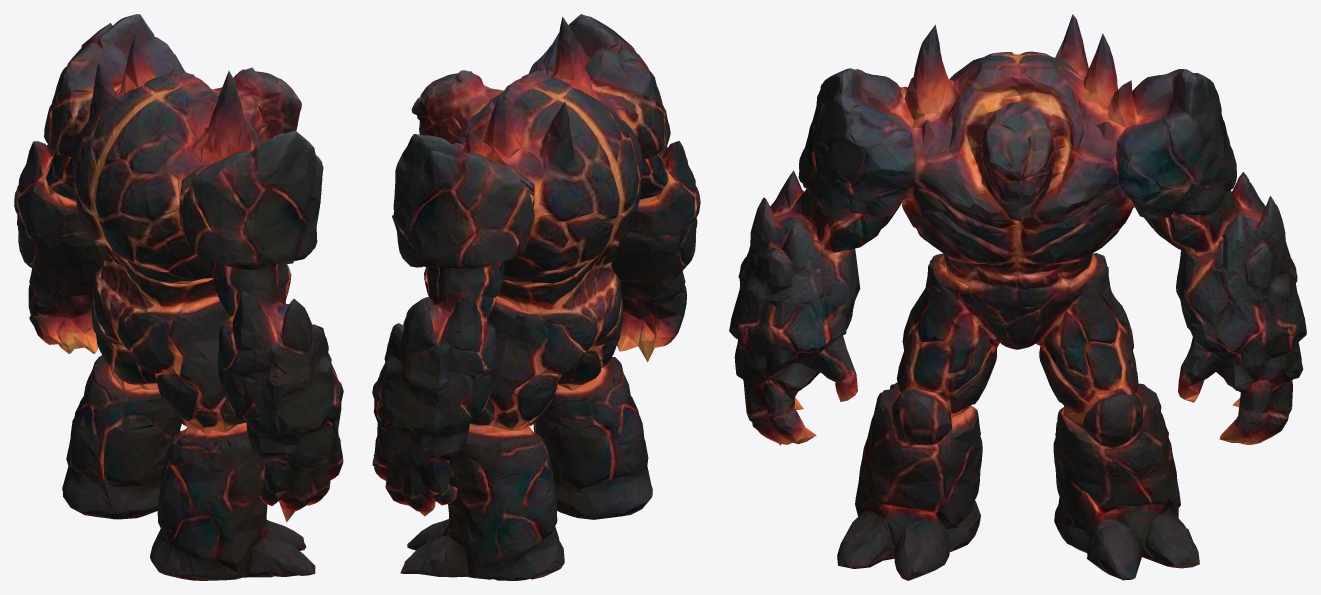
Rendered from boss6.glb.
3 views of the same model, side by side, from view 1: azimuth 30°, elevation 25°; view 2: azimuth 150°, elevation 25°; view 3: azimuth 270°, elevation 25° (orthographic). The views are drawn at different scales.
Visible parts, largest first — view 1: tripo_node_cc3fac07_tripo_mat_cc3fac07_0; view 2: tripo_node_cc3fac07_tripo_mat_cc3fac07_0; view 3: tripo_node_cc3fac07_tripo_mat_cc3fac07_0.
Part boxes in pixels (x1,y1,x2,y2): tripo_node_cc3fac07_tripo_mat_cc3fac07_0: (14,14,343,580); tripo_node_cc3fac07_tripo_mat_cc3fac07_0: (372,14,700,580); tripo_node_cc3fac07_tripo_mat_cc3fac07_0: (729,14,1306,580).
Bounding box in the file's own units: 0.4451 × 0.9973 × 0.9996.
Materials: 1 (1 with a texture image).
